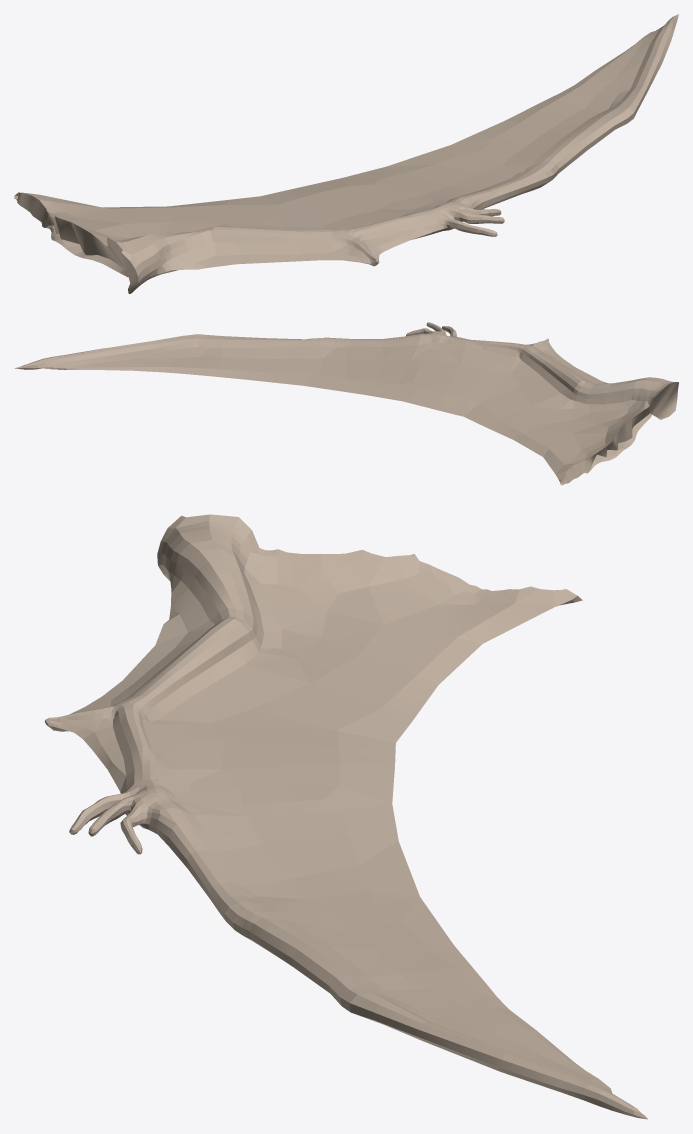
Rendered from BrazoDer.obj.
The picture shows the model from 3 angles, top to bottom: view 1: azimuth 30°, elevation 25°; view 2: azimuth 150°, elevation 25°; view 3: azimuth 270°, elevation 25°; orthographic projection. The views are drawn at different scales.
Visible parts, largest first — view 1: polySurface11; view 2: polySurface11; view 3: polySurface11.
Boxes of the visible parts, <box> form: polySurface11: <box>14,14,678,293</box>; polySurface11: <box>14,322,678,485</box>; polySurface11: <box>44,514,647,1119</box>.
Bounding box in the file's own units: 11.23 × 0.8873 × 5.36.
2 materials, 2 textured.
